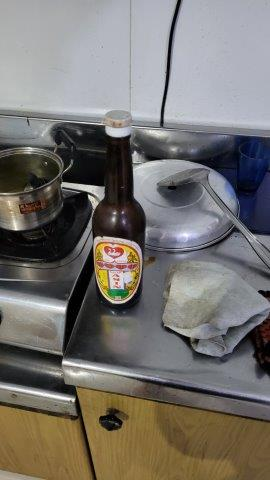botolkaca: (89, 110, 147, 313)
